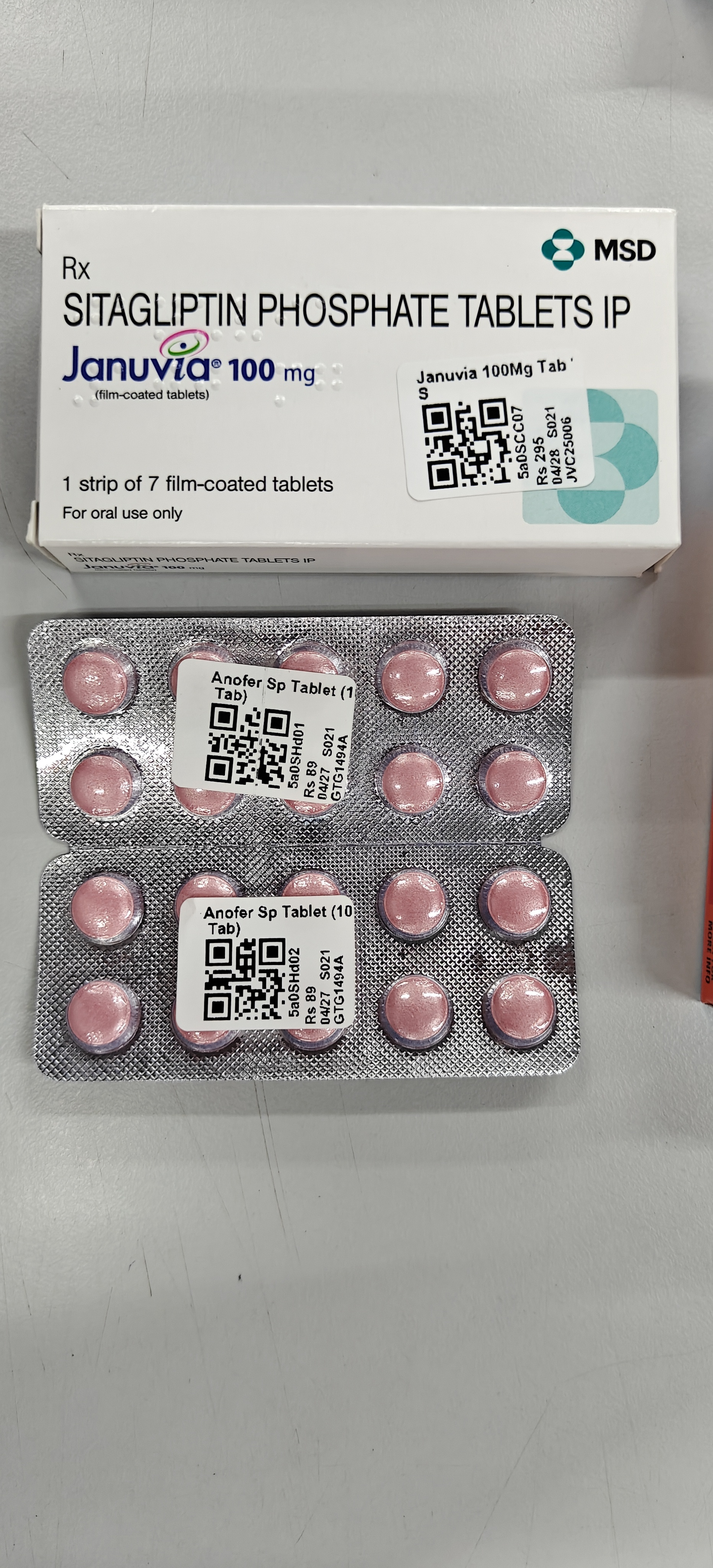qr_code: (422, 397, 514, 490), (204, 703, 290, 789), (203, 938, 285, 1021)
